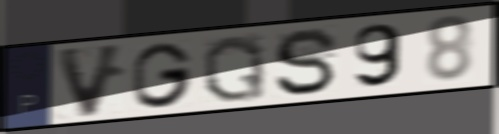8: (422, 13, 476, 86)
9: (352, 22, 403, 90)
G: (130, 40, 195, 110)
Q: (200, 33, 268, 105)
S: (271, 26, 341, 98)
V: (52, 41, 129, 121)
